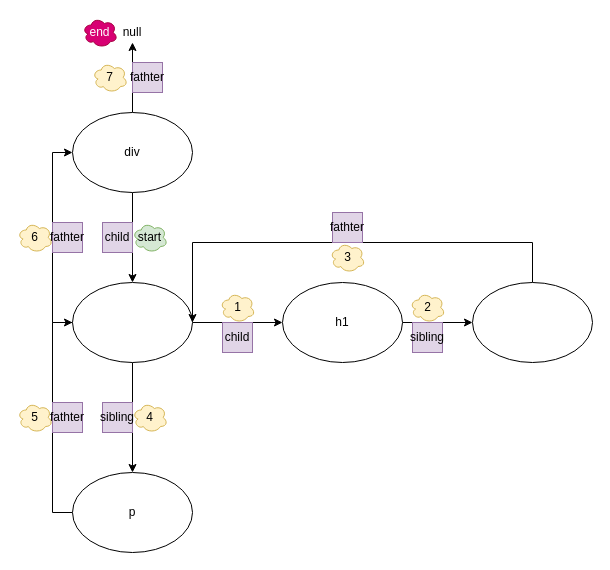
Image size: 610x570. Some labels were removed from this diagram. Here are the shapes that lost their labels. From the top down, the box of each, then its label:
(72, 282, 192, 362): aside
(472, 282, 592, 362): h2
